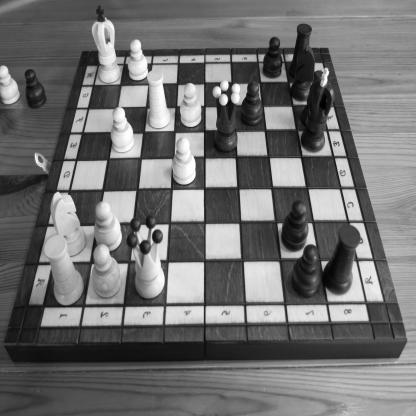black-bishop: (299, 70, 325, 128)
black-king: (300, 67, 335, 154)
black-knight: (290, 44, 316, 102)
black-pawn: (291, 243, 322, 299), (281, 199, 309, 252), (240, 80, 264, 127), (24, 68, 47, 110), (262, 36, 283, 79)
black-queen: (212, 80, 240, 154)
black-rook: (322, 223, 361, 296), (288, 22, 313, 80)
white-king: (91, 4, 121, 84)
white-knight: (50, 191, 88, 258)
white-pawn: (92, 244, 122, 299), (93, 201, 123, 253), (171, 136, 197, 186), (110, 106, 136, 153), (179, 82, 203, 128), (127, 39, 149, 81), (0, 64, 21, 106)
white-queen: (126, 214, 166, 300)
white-rook: (44, 234, 85, 307), (147, 68, 171, 130)
